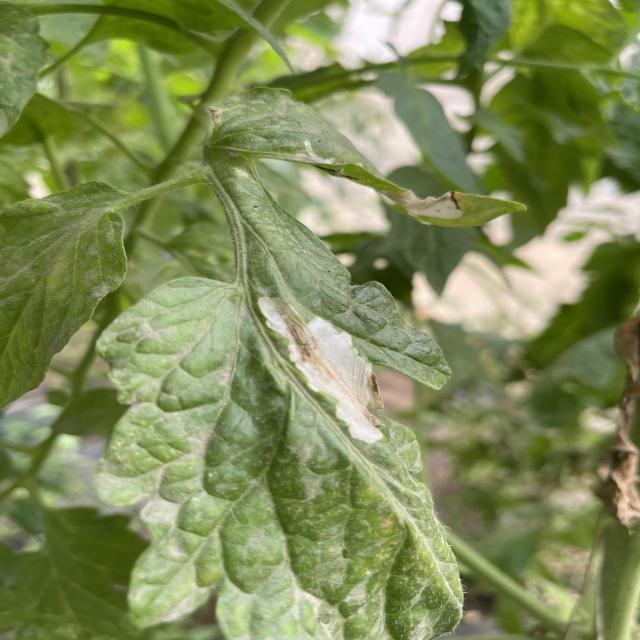Tuta absoluta: (247, 268, 412, 455)
